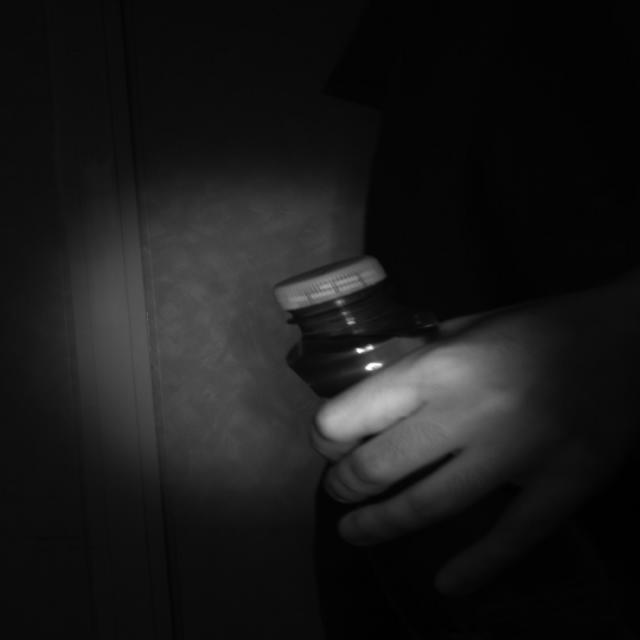Not Good: (274, 253, 393, 326)
